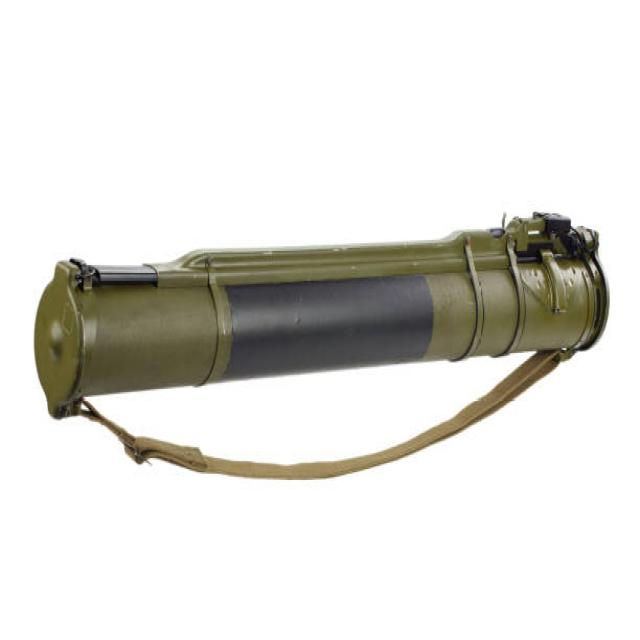bazooka: (30, 194, 615, 421)
